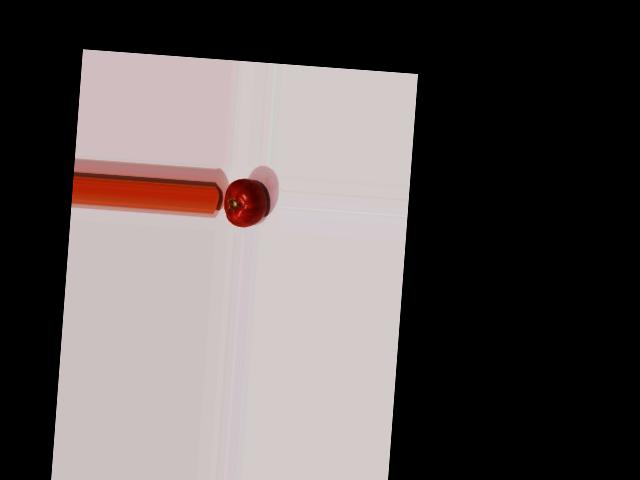tomato: (223, 178, 268, 229)
